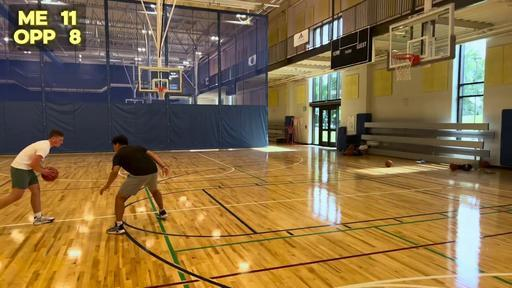ball: (42, 166, 58, 181), (385, 160, 393, 168)
human: (100, 134, 169, 234), (2, 129, 64, 226)
rim: (392, 54, 419, 82), (158, 87, 166, 101)
